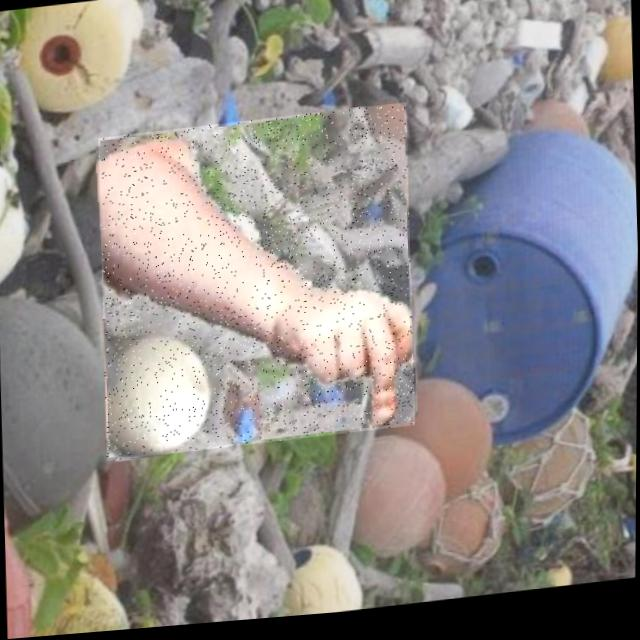Person in Rubble: (95, 108, 416, 463)
